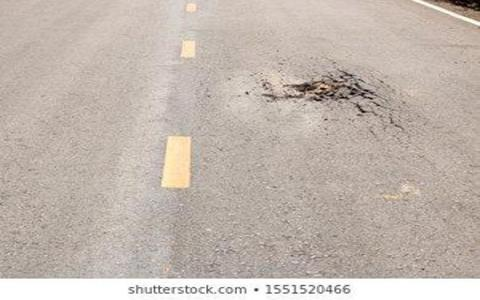patchy roads: (209, 23, 435, 221)
